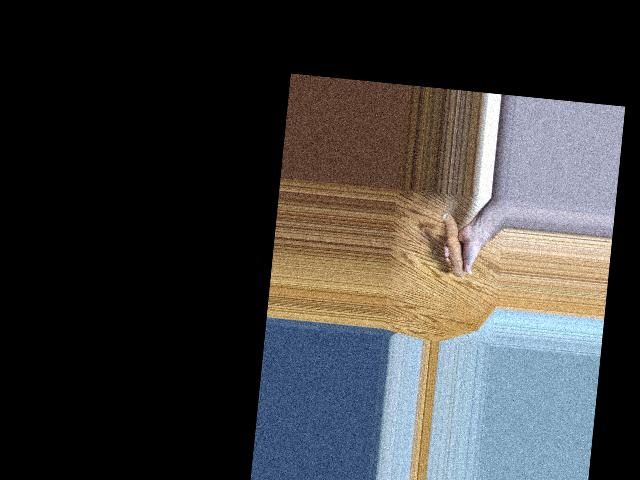sweet_potato: (446, 214, 469, 278)
